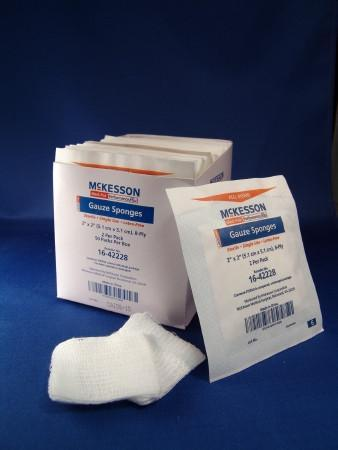bandage: (48, 334, 159, 405), (121, 314, 204, 406)
